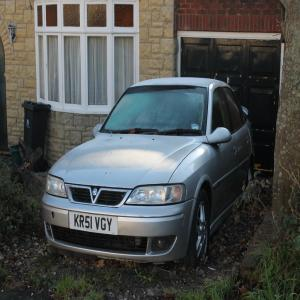Vehicle-registration-plate: (70, 211, 118, 236)
